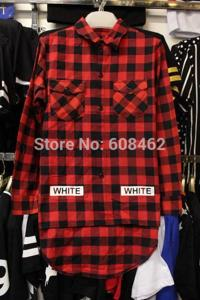C_long sleeve: (7, 14, 190, 281)
